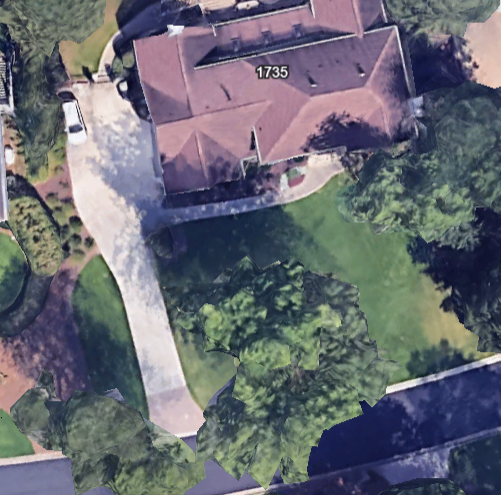driveway: (55, 77, 204, 443)
